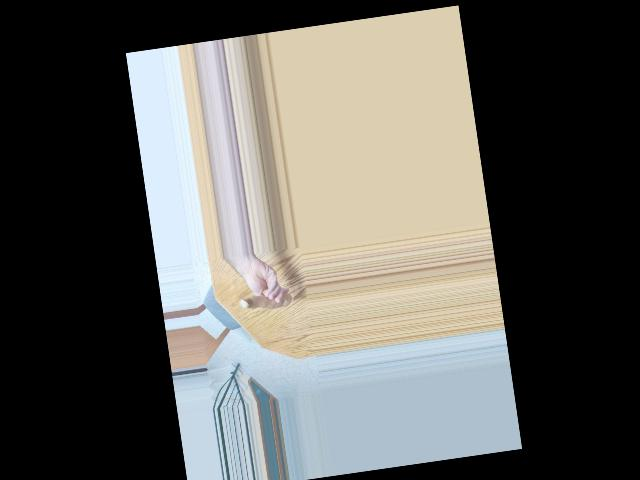sweet_potato: (237, 286, 290, 313)
